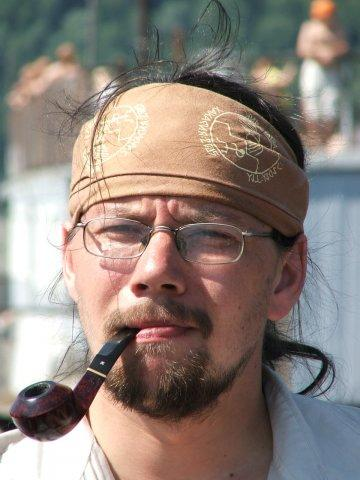trubka: (11, 329, 137, 441)
